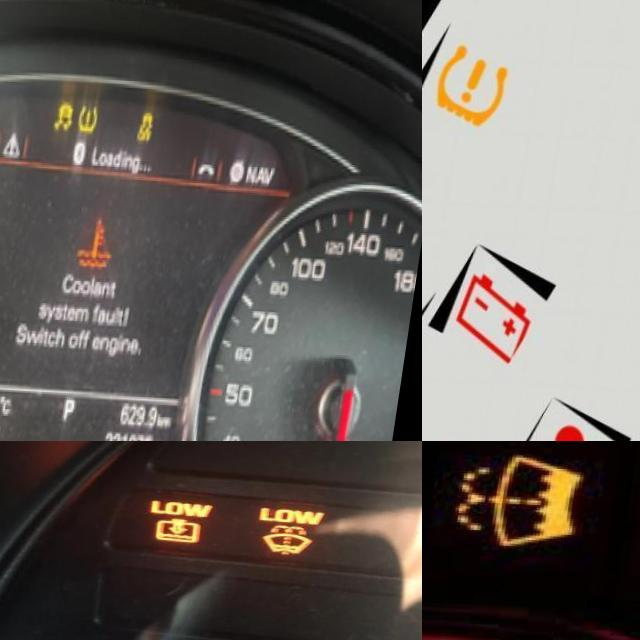High Engine Coolant Temperature: (82, 210, 130, 271)
Washer Fluid: (463, 450, 594, 550)
